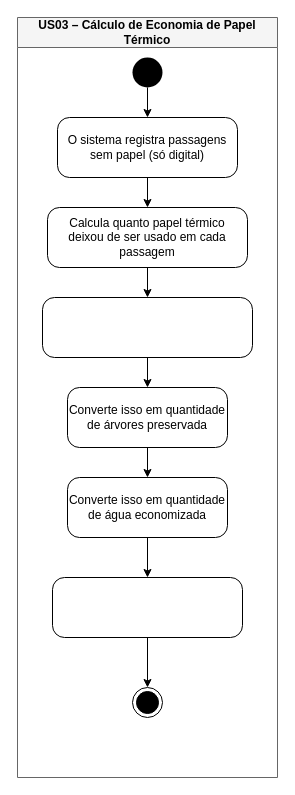
This 295x795 diagram has some shape labels left out. The shapes that lost their labels are listed below. From the top down, each one's centre as x and y in pixels, then its label:
(x=147, y=327): Converte isso em quantos metros de papel foram evitados
(x=147, y=607): Mostra na tela os litros de água, as árvores e a quantidade de metros no total
